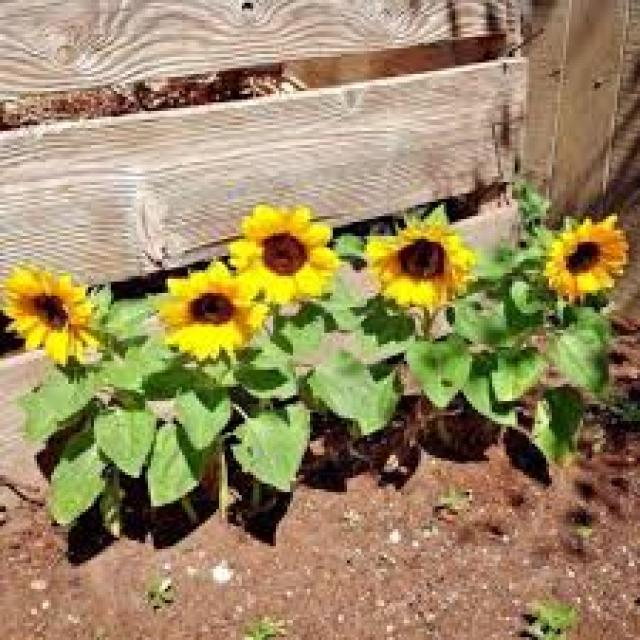sunflower: (218, 198, 352, 330), (0, 248, 111, 386), (353, 213, 482, 326), (148, 259, 282, 367), (539, 201, 637, 310)
